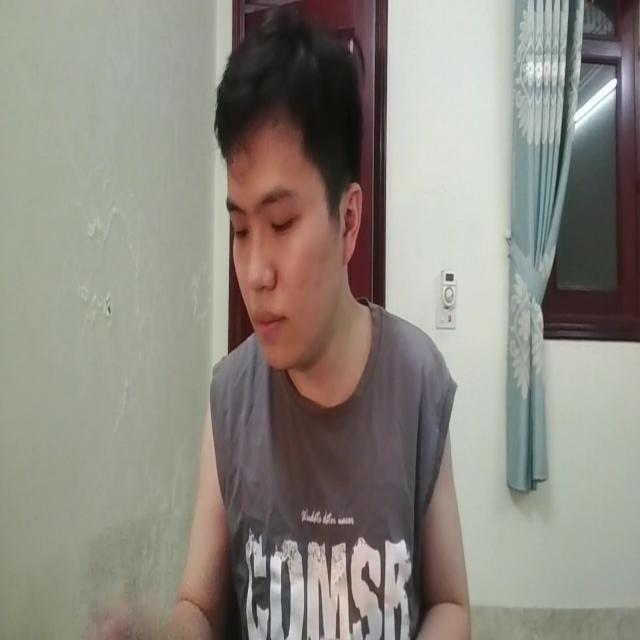student: (164, 2, 474, 640)
